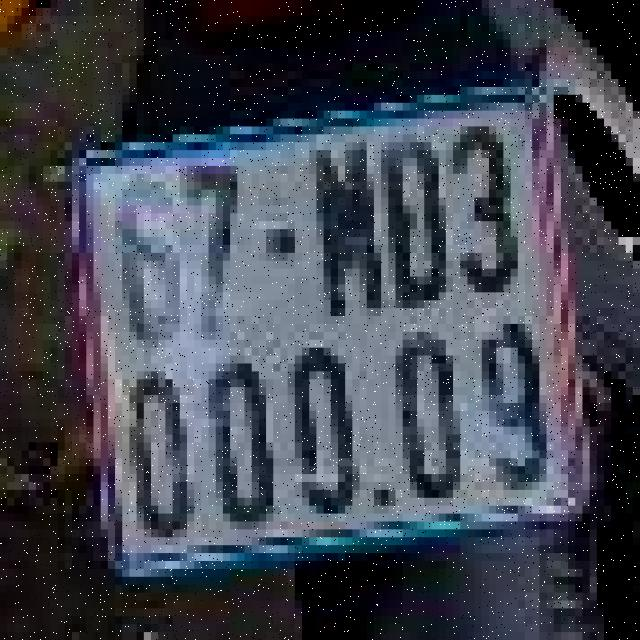0: (284, 340, 363, 529), (388, 324, 468, 506), (122, 360, 194, 541), (205, 352, 277, 526)
3: (453, 119, 532, 300)
6: (112, 166, 184, 348)
7: (183, 154, 248, 336)
9: (471, 316, 557, 490)
D: (381, 134, 446, 308)
M: (313, 138, 385, 320)
